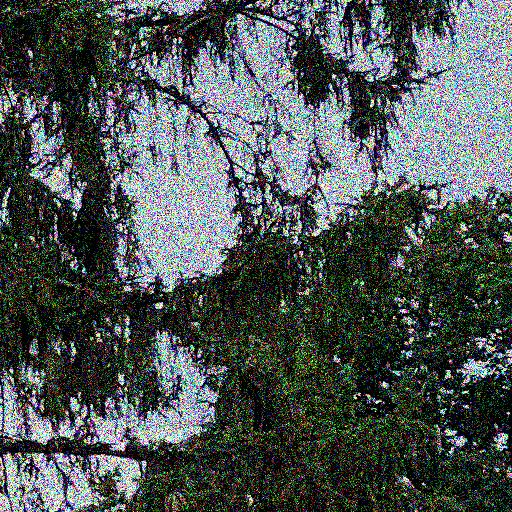tree: (1, 1, 475, 512), (87, 136, 511, 511)
